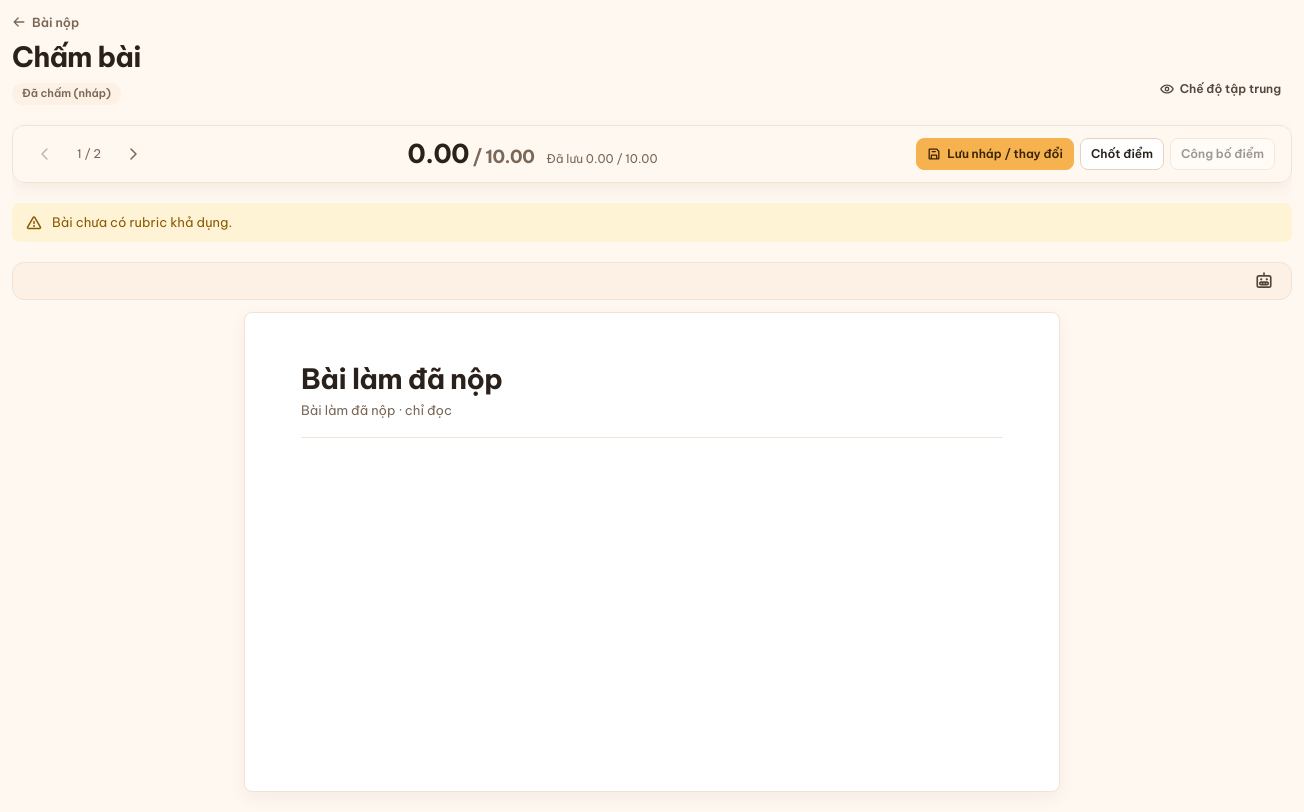
Test: workspace save › stays on the submission after a version conflict
Click the button "Lưu nháp / thay đổi": (995, 154) [916, 138, 1074, 170]
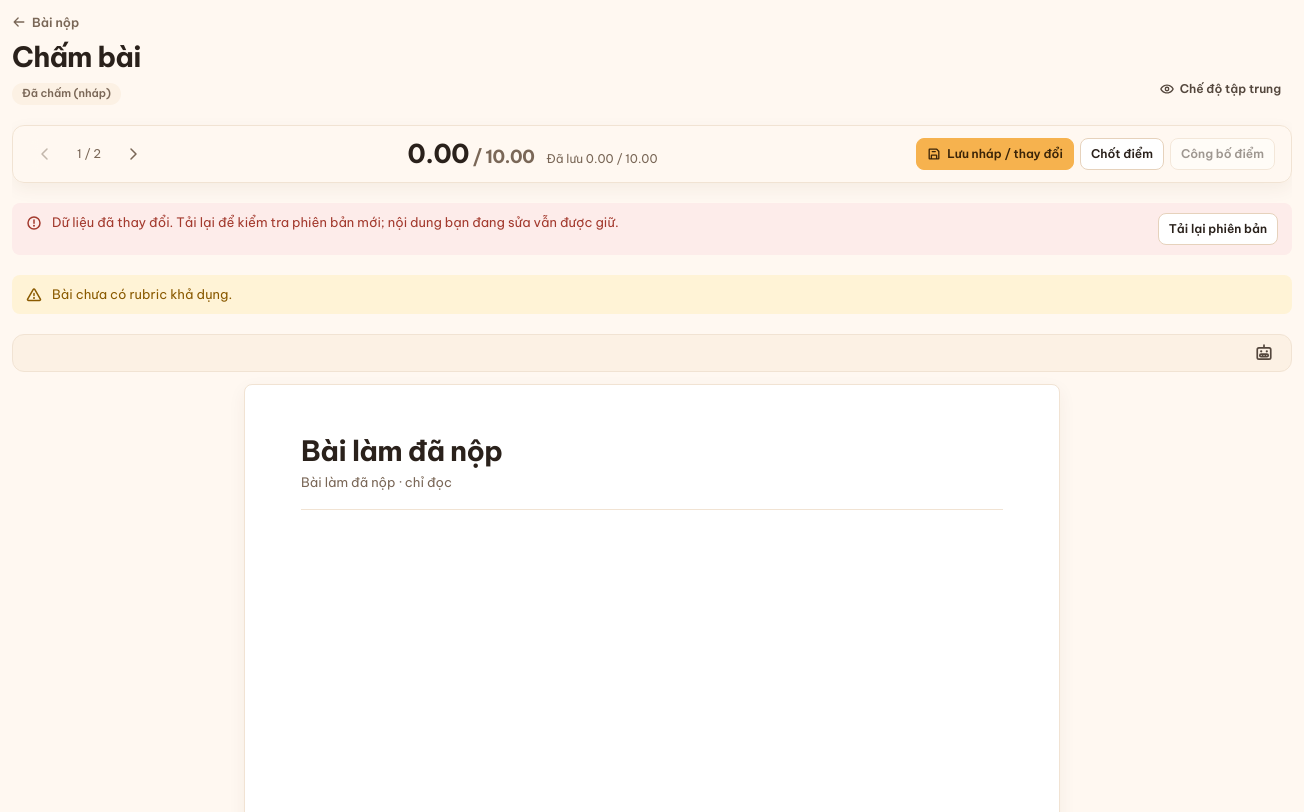
Expected: the button "Công bố điểm" is disabled, [1170, 138, 1275, 170]
Expected: the 2nd message is shown, [12, 203, 1292, 255]
